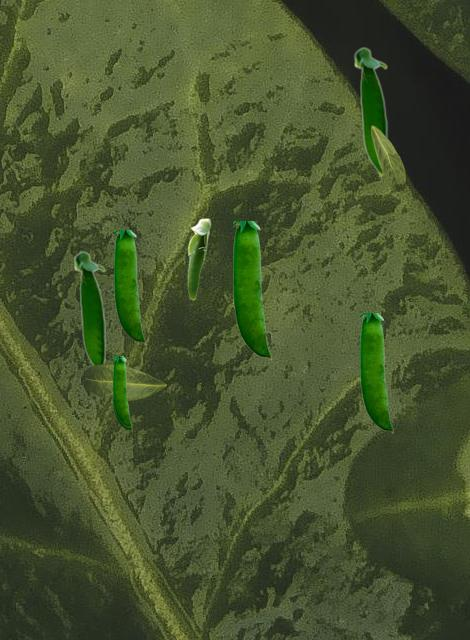pea: (233, 221, 270, 359), (353, 46, 387, 178), (360, 313, 392, 432), (73, 250, 105, 364), (114, 230, 144, 343), (187, 218, 210, 299), (112, 356, 131, 430), (113, 358, 130, 426)
